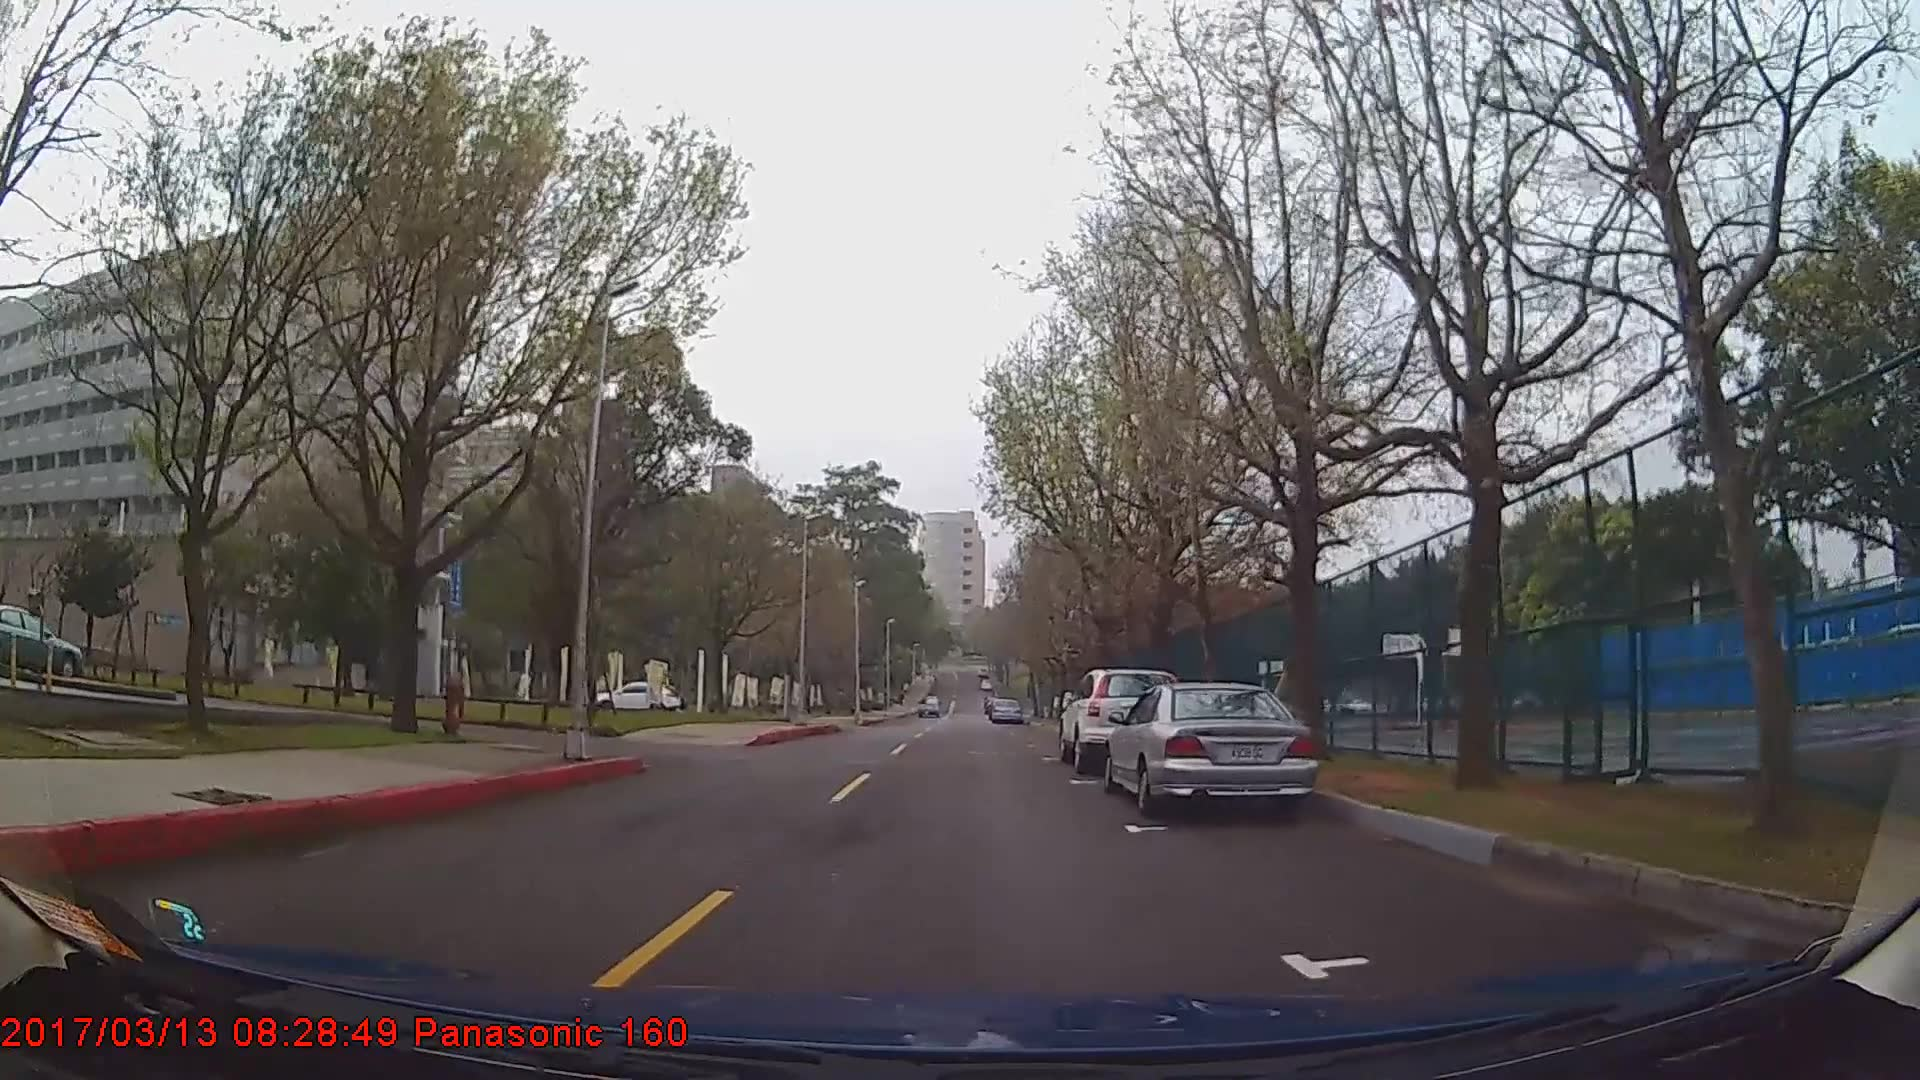vehicle: (1102, 680, 1317, 814), (1056, 669, 1178, 771), (0, 600, 79, 684), (593, 679, 682, 711), (986, 695, 1021, 721)
